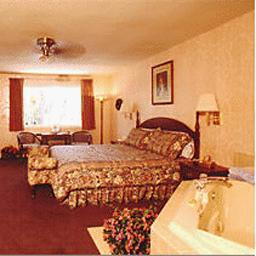Cama: (57, 115, 191, 204)
